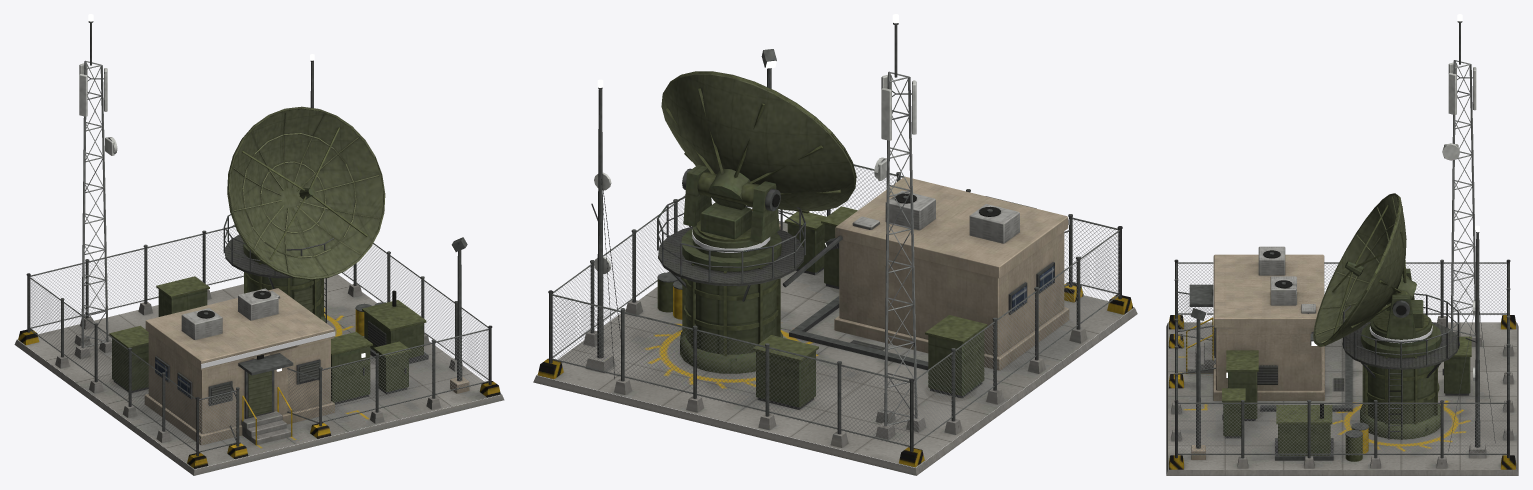
Rendered from radar.glb.
The picture shows the model from 3 angles, left to right: view 1: azimuth 30°, elevation 25°; view 2: azimuth 150°, elevation 25°; view 3: azimuth 270°, elevation 25°; orthographic projection. The views are drawn at different scales.
Parts seen in each view (by area): view 1: Building, RadarDish; view 2: Building, RadarDish; view 3: Building, RadarDish.
Boxes of the visible parts, left/top/right/bottom form: Building: left=14, top=21, right=504, bottom=475; RadarDish: left=227, top=106, right=385, bottom=279; Building: left=533, top=23, right=1137, bottom=475; RadarDish: left=661, top=71, right=856, bottom=257; Building: left=1166, top=21, right=1518, bottom=475; RadarDish: left=1313, top=193, right=1432, bottom=347.
Bounding box in the file's own units: 12 × 12.55 × 12.
Materials: 9 (2 with a texture image).
